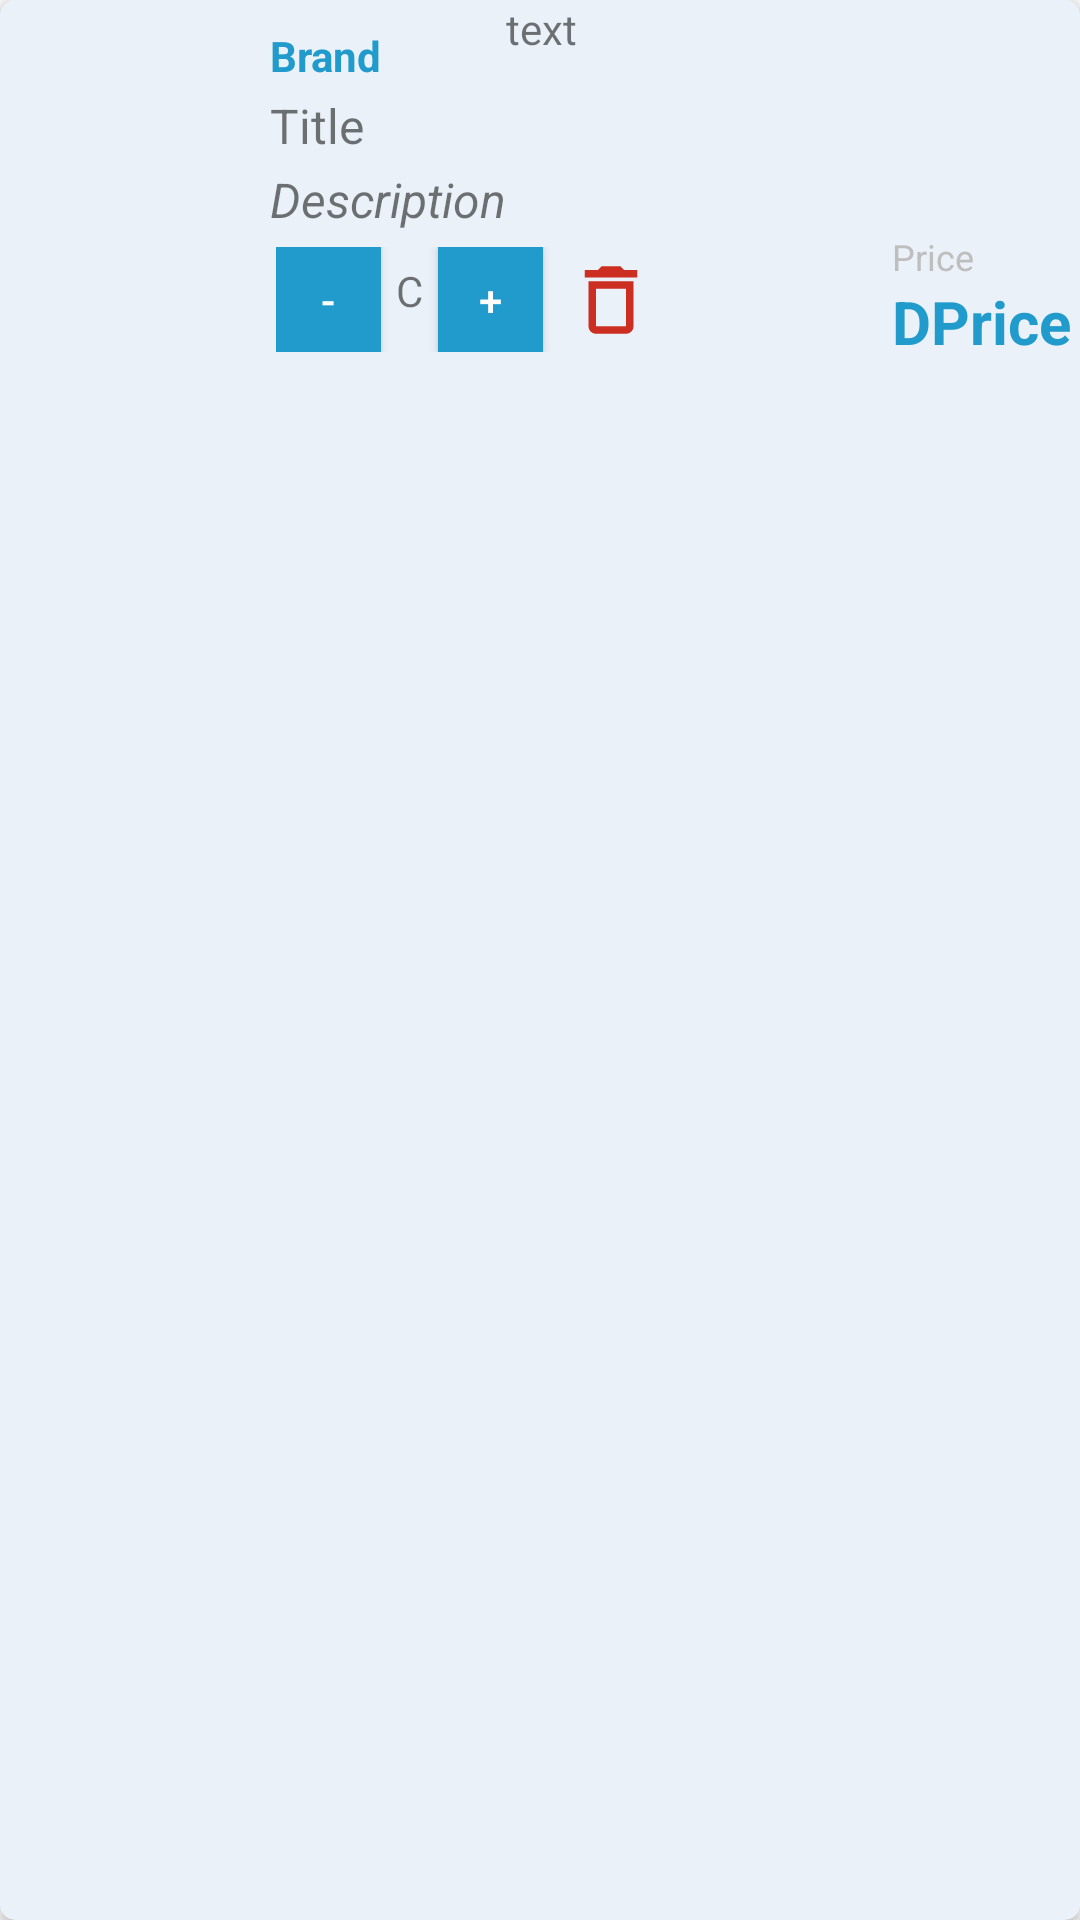

Icons on this 1080 × 1920 Android screen, each with its box as bbox=[x1, y1, x2, y2]:
delete: bbox=[584, 266, 638, 334]
